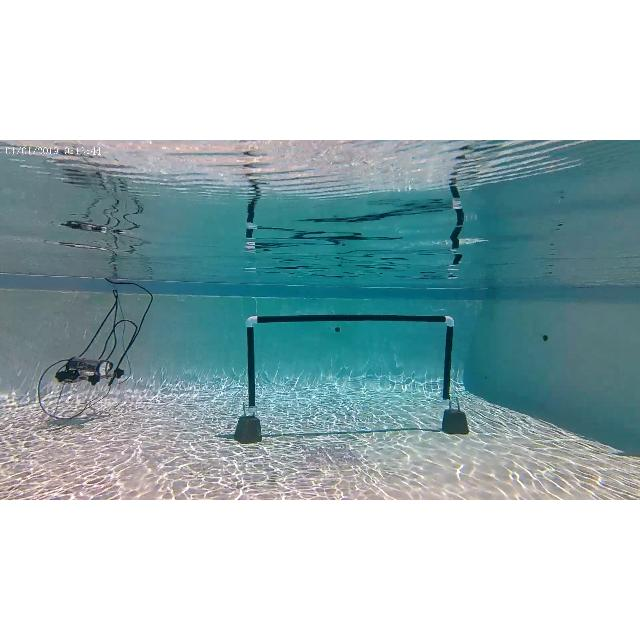prequal gate: (246, 314, 454, 412)
prequal gate leg l: (242, 314, 266, 420)
prequal gate leg r: (434, 314, 460, 410)
